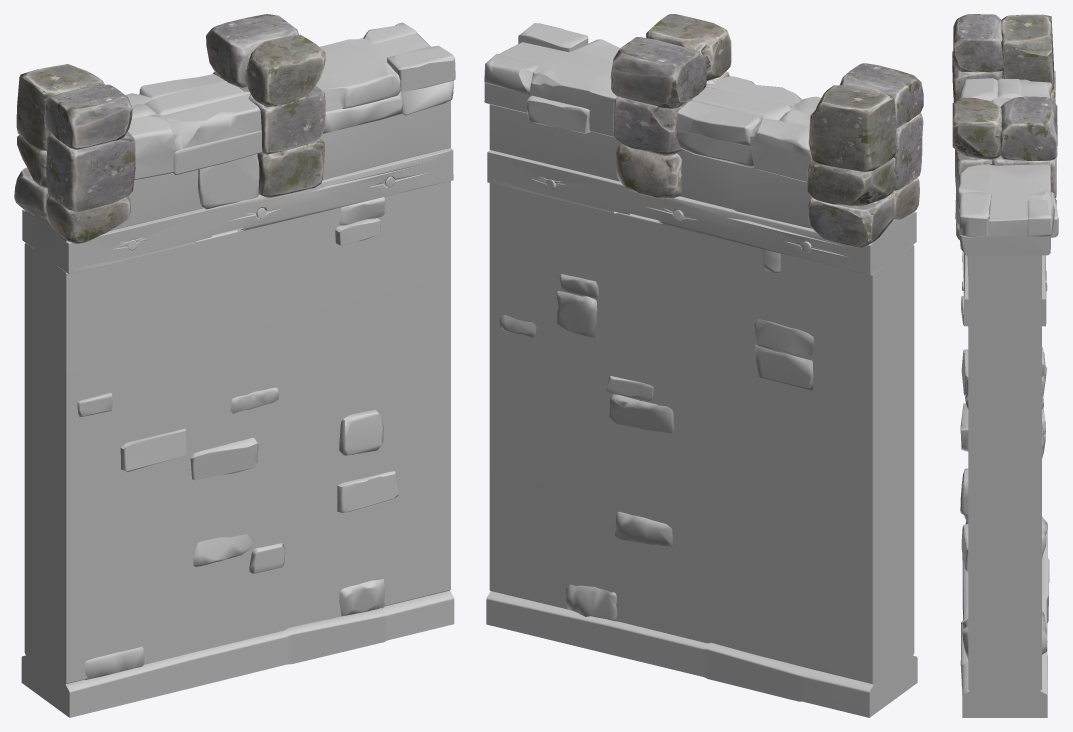
3 renders of one model, left to right at view 1: azimuth 30°, elevation 25°; view 2: azimuth 150°, elevation 25°; view 3: azimuth 270°, elevation 25°, orthographic. The views are drawn at different scales.
Parts seen in each view (by area): view 1: SM_Castle_Wall_4x6_01_v2_LOD0; view 2: SM_Castle_Wall_4x6_01_v2_LOD0; view 3: SM_Castle_Wall_4x6_01_v2_LOD0.
Part boxes in pixels (x1,y1,x2,y2): SM_Castle_Wall_4x6_01_v2_LOD0: (14,14,455,717); SM_Castle_Wall_4x6_01_v2_LOD0: (484,14,923,717); SM_Castle_Wall_4x6_01_v2_LOD0: (952,14,1058,717).
Bounding box in the file's own units: 4.07 × 6.06 × 1.08.
